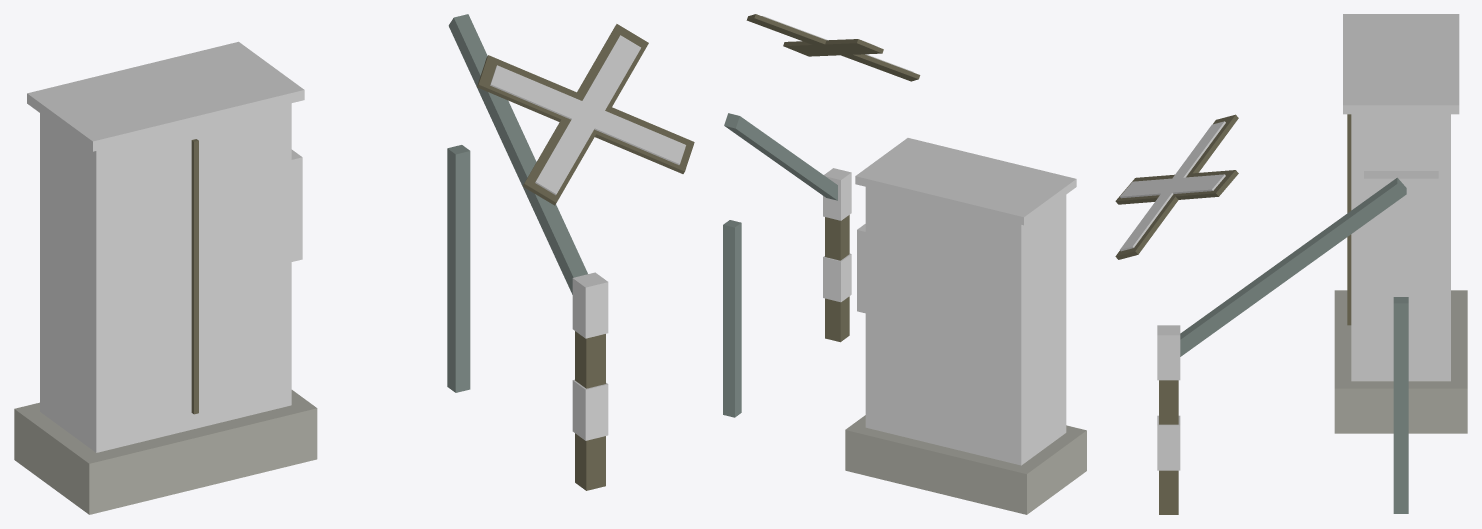
The model's file is SM_ArmarioAdif_v3_CruzDoblada_LOD0.fbx.
The picture shows the model from 3 angles, left to right: view 1: azimuth 30°, elevation 25°; view 2: azimuth 150°, elevation 25°; view 3: azimuth 270°, elevation 25°; orthographic projection. The views are drawn at different scales.
Parts seen in each view (by area): view 1: SM_sagunto_vivo_v13_LOD0; view 2: SM_sagunto_vivo_v13_LOD0; view 3: SM_sagunto_vivo_v13_LOD0.
Part boxes in pixels (<box>): SM_sagunto_vivo_v13_LOD0: <box>14,14,694,514</box>; SM_sagunto_vivo_v13_LOD0: <box>723,14,1086,514</box>; SM_sagunto_vivo_v13_LOD0: <box>1115,14,1467,514</box>.
Bounding box in the file's own units: 3.02 × 2.45 × 2.12.
